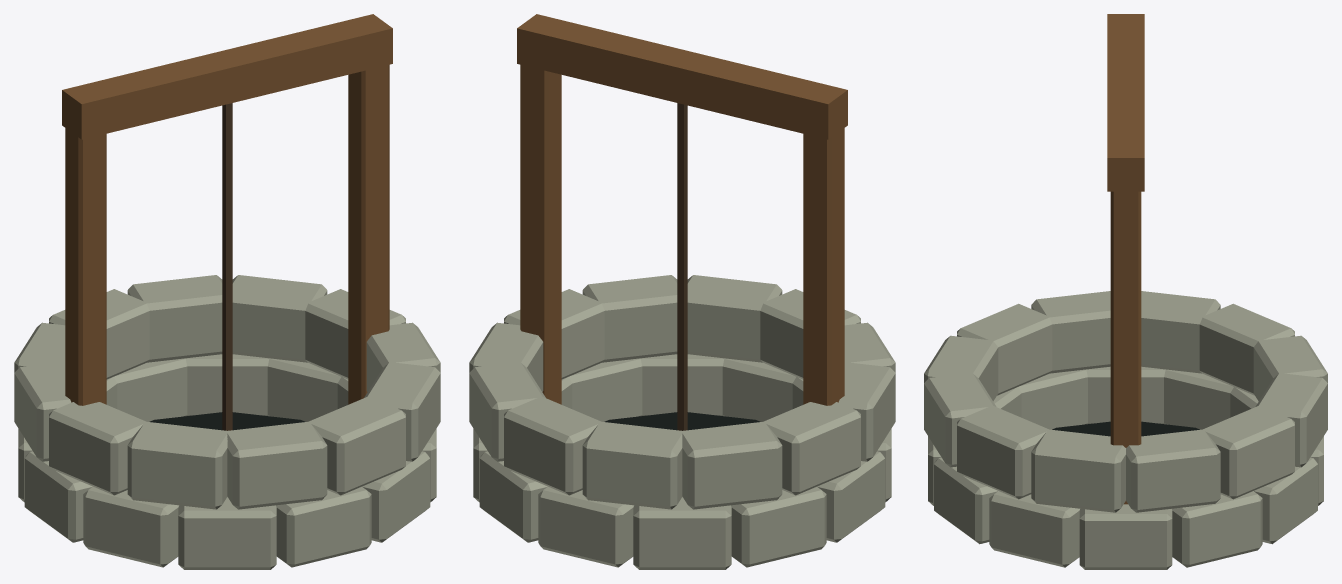
File: stone_well.glb
3 renders of one model, left to right at view 1: azimuth 30°, elevation 25°; view 2: azimuth 150°, elevation 25°; view 3: azimuth 270°, elevation 25°, orthographic. The views are drawn at different scales.
Visible parts, largest first — view 1: stone_well; view 2: stone_well; view 3: stone_well.
Boxes of the visible parts, <box> form: stone_well: <box>14,14,440,569</box>; stone_well: <box>469,14,895,569</box>; stone_well: <box>924,14,1327,569</box>.
Size of the model in its own units: 2.61 by 2.87 by 2.61.
